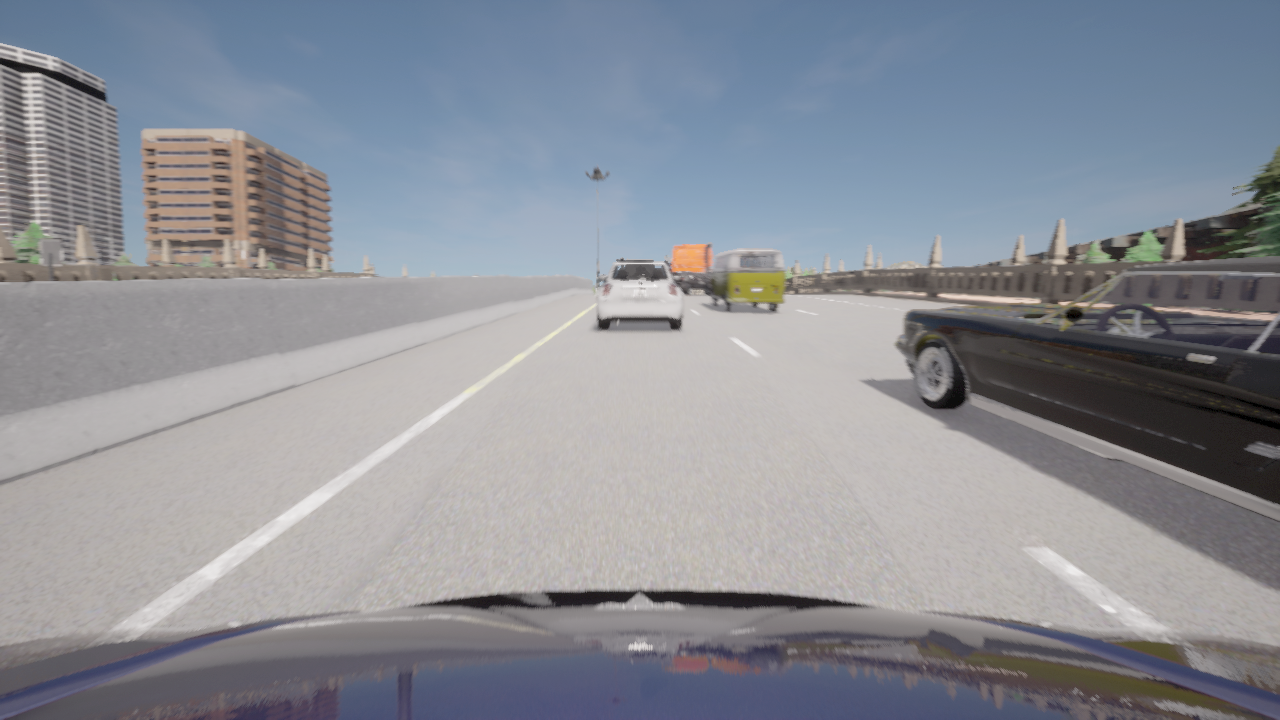cyclist: (0, 588, 1279, 719), (895, 257, 1279, 522), (596, 261, 683, 330), (709, 249, 784, 311), (665, 243, 712, 294), (626, 259, 653, 261), (688, 289, 690, 293)
